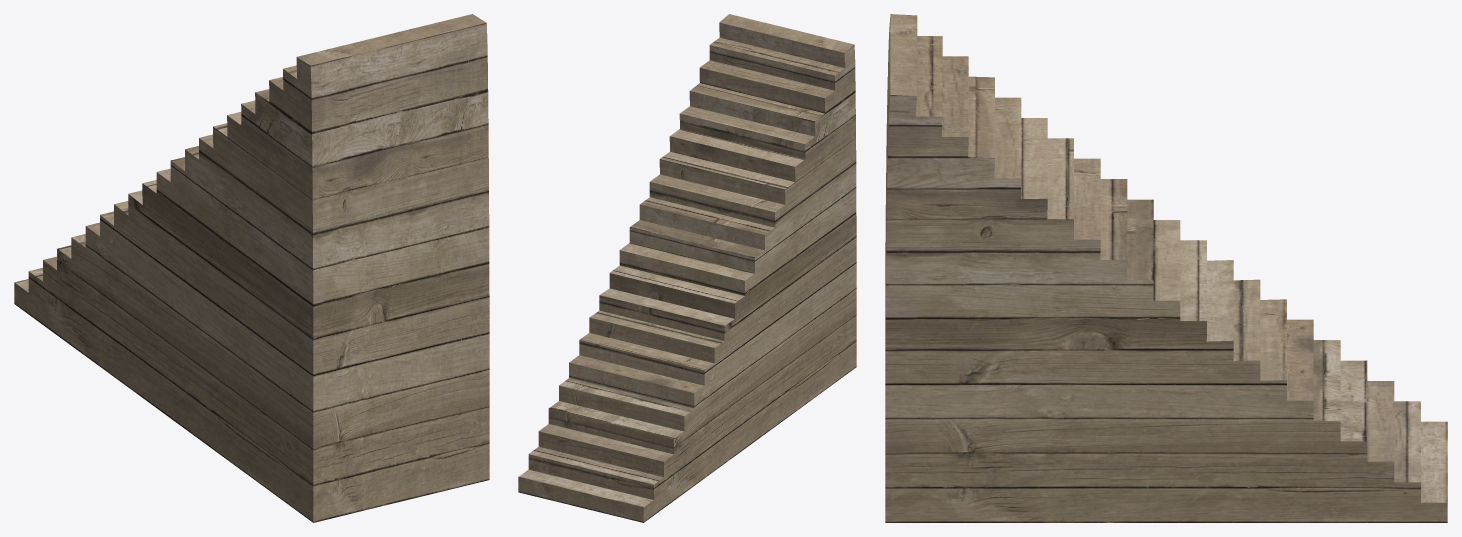
Rendered from Stairs_SM.FBX.
3 renders of one model, left to right at view 1: azimuth 30°, elevation 25°; view 2: azimuth 150°, elevation 25°; view 3: azimuth 270°, elevation 25°, orthographic. The views are drawn at different scales.
Parts seen in each view (by area): view 1: Staircase001; view 2: Staircase001; view 3: Staircase001.
Part boxes in pixels (left/top/right/bottom): Staircase001: left=14, top=14, right=489, bottom=522; Staircase001: left=518, top=14, right=856, bottom=522; Staircase001: left=885, top=14, right=1447, bottom=522.
Size of what is drawn, in the model's own units: 170 by 500 by 420.
1 material, 1 textured.
